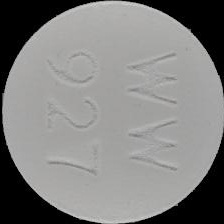50090-0867: (0, 0, 224, 224)
